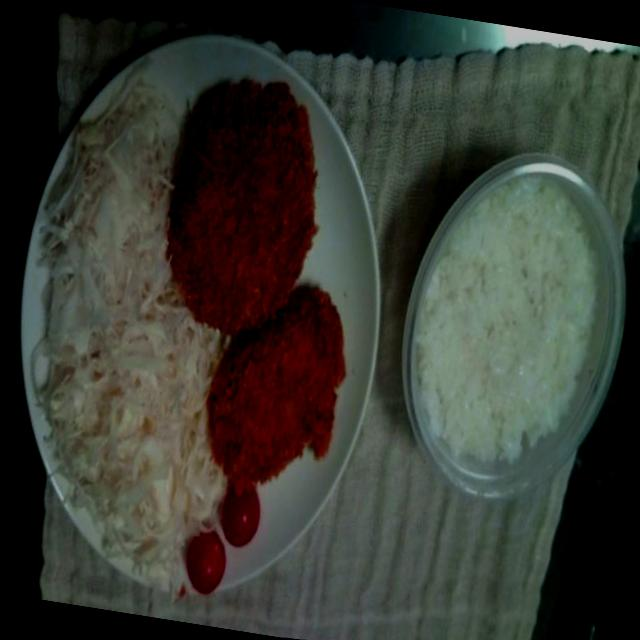Rice: (383, 148, 624, 482)
